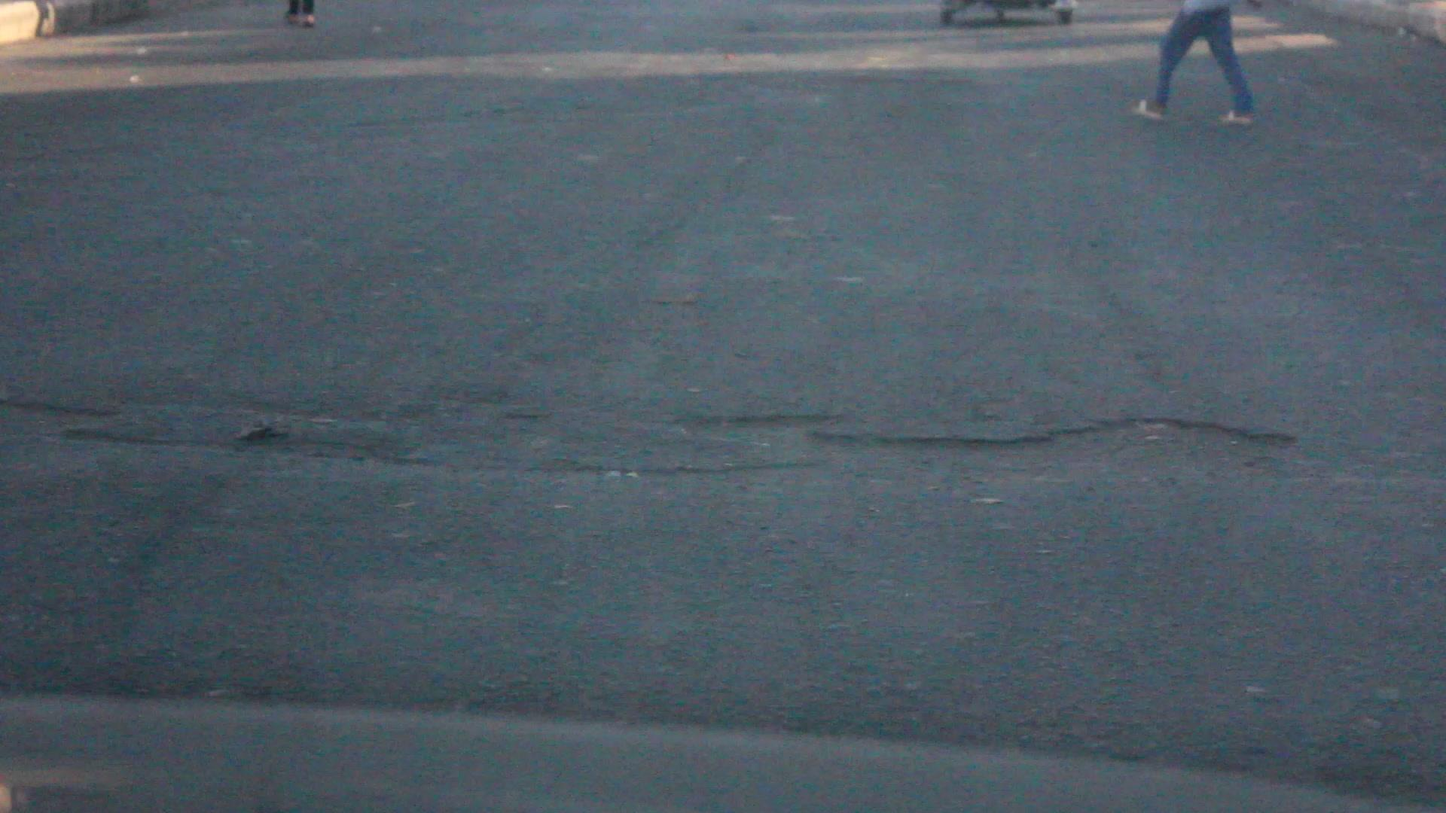Bump: (8, 438, 1446, 745)
Pothole: (676, 391, 1312, 486), (230, 401, 601, 493)
